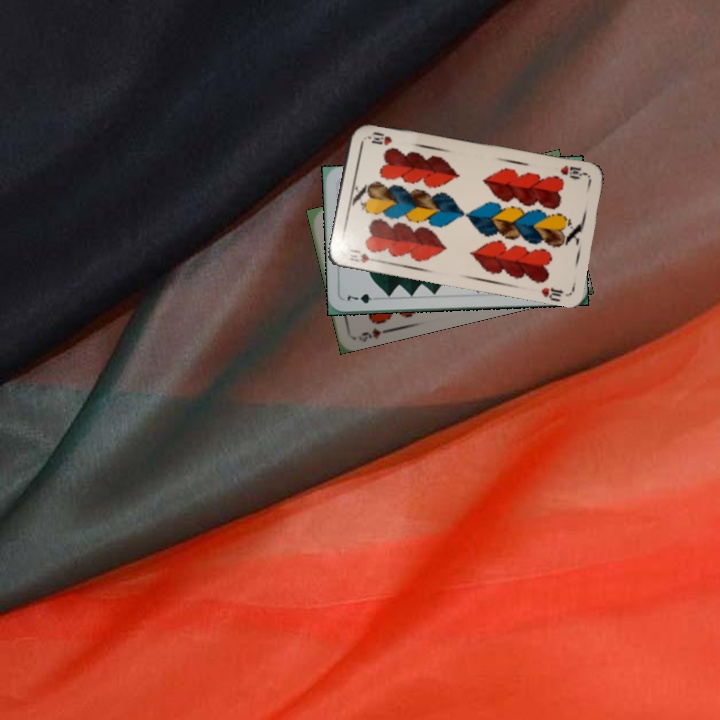G7: (343, 290, 383, 306)
H10: (345, 245, 382, 266), (556, 161, 589, 182)
H9: (354, 324, 392, 344)
